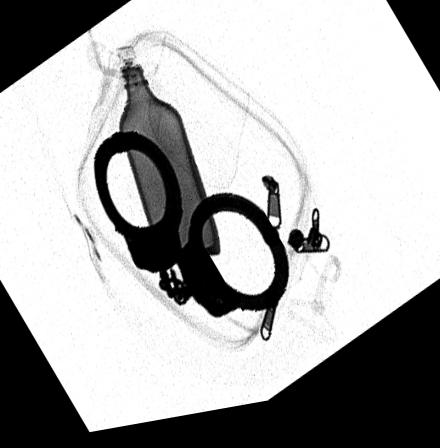HandCuffs: (93, 134, 290, 326)
